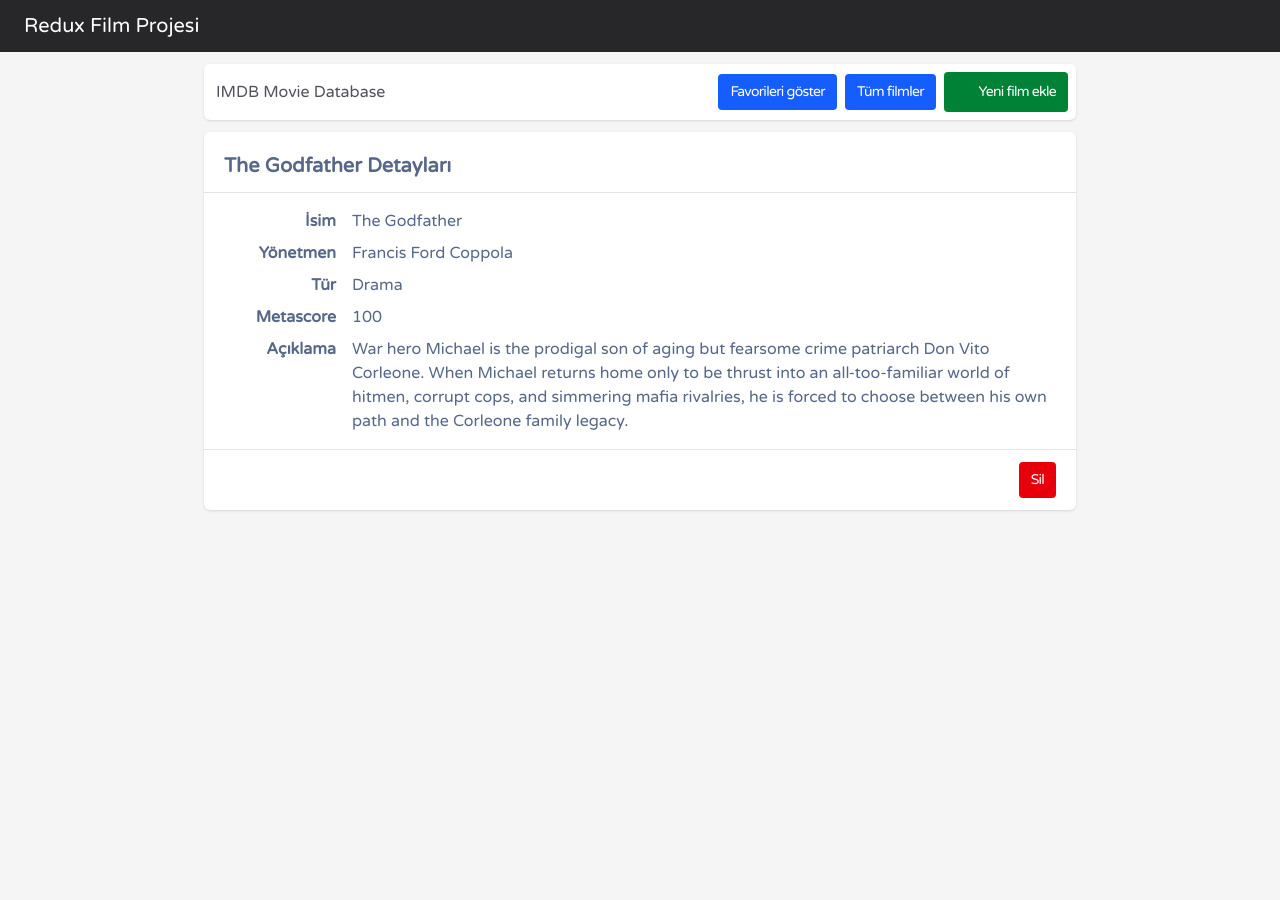
Test case: Film detayları sayfasında Favorilere Ekle butonu filmi favori listesine ekliyor mu?
Click the text "Favorileri göster".
click(778, 92)  # box [730,82,825,102]
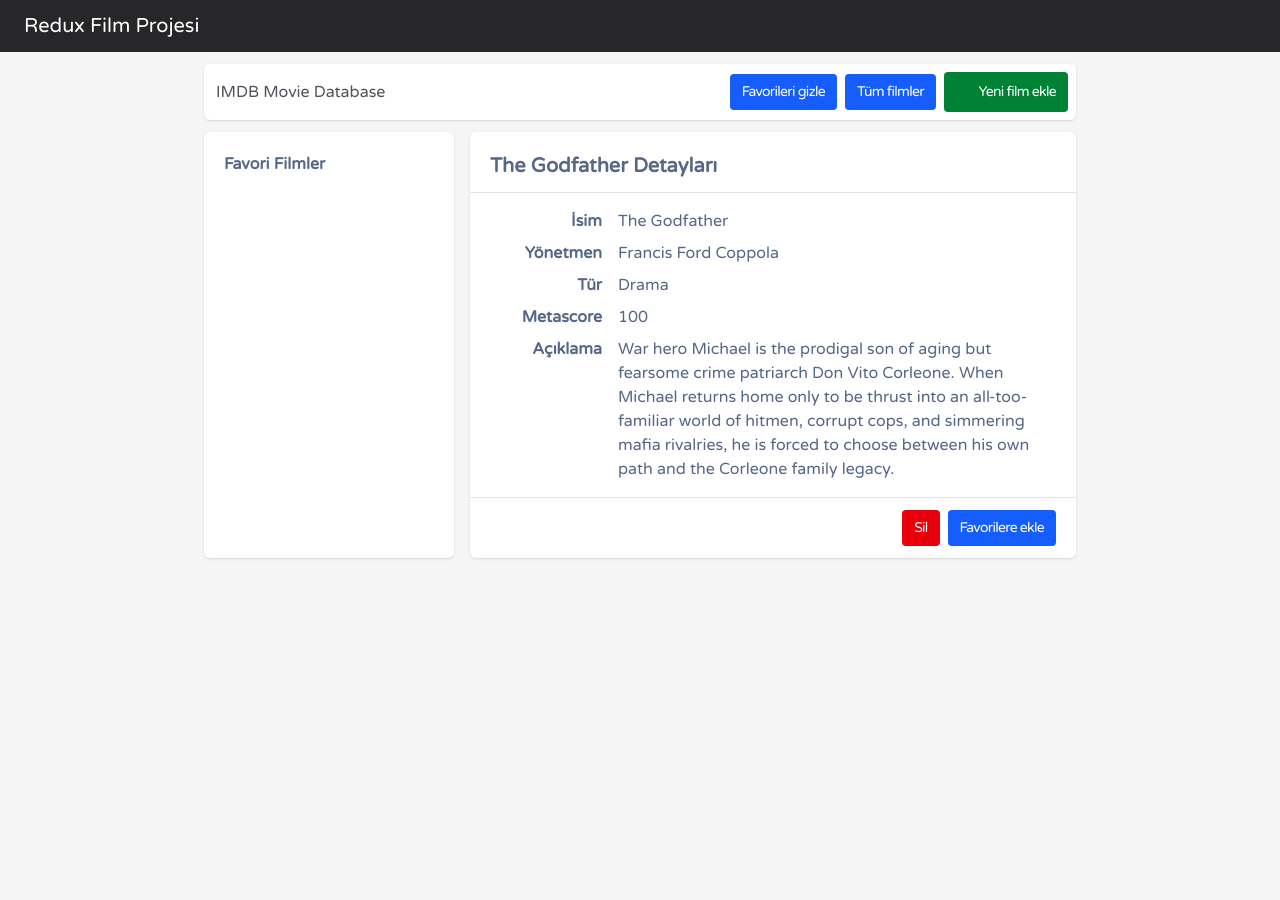
Click the link "Tüm filmler".
click(890, 92)  # box [845,74,936,110]
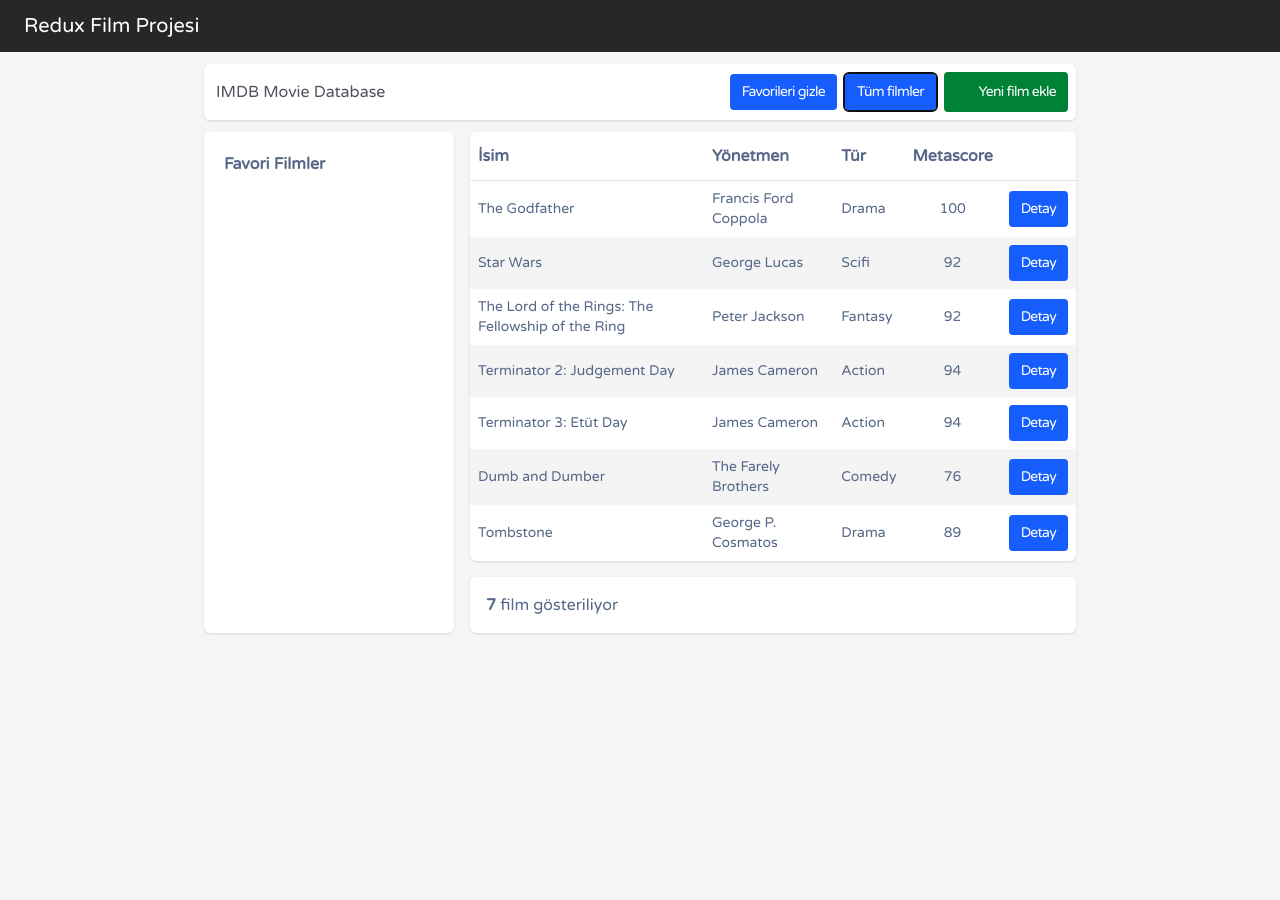
Click the link "Detay" in the row of "The Godfather".
click(1038, 209)  # box [1009,191,1068,227]
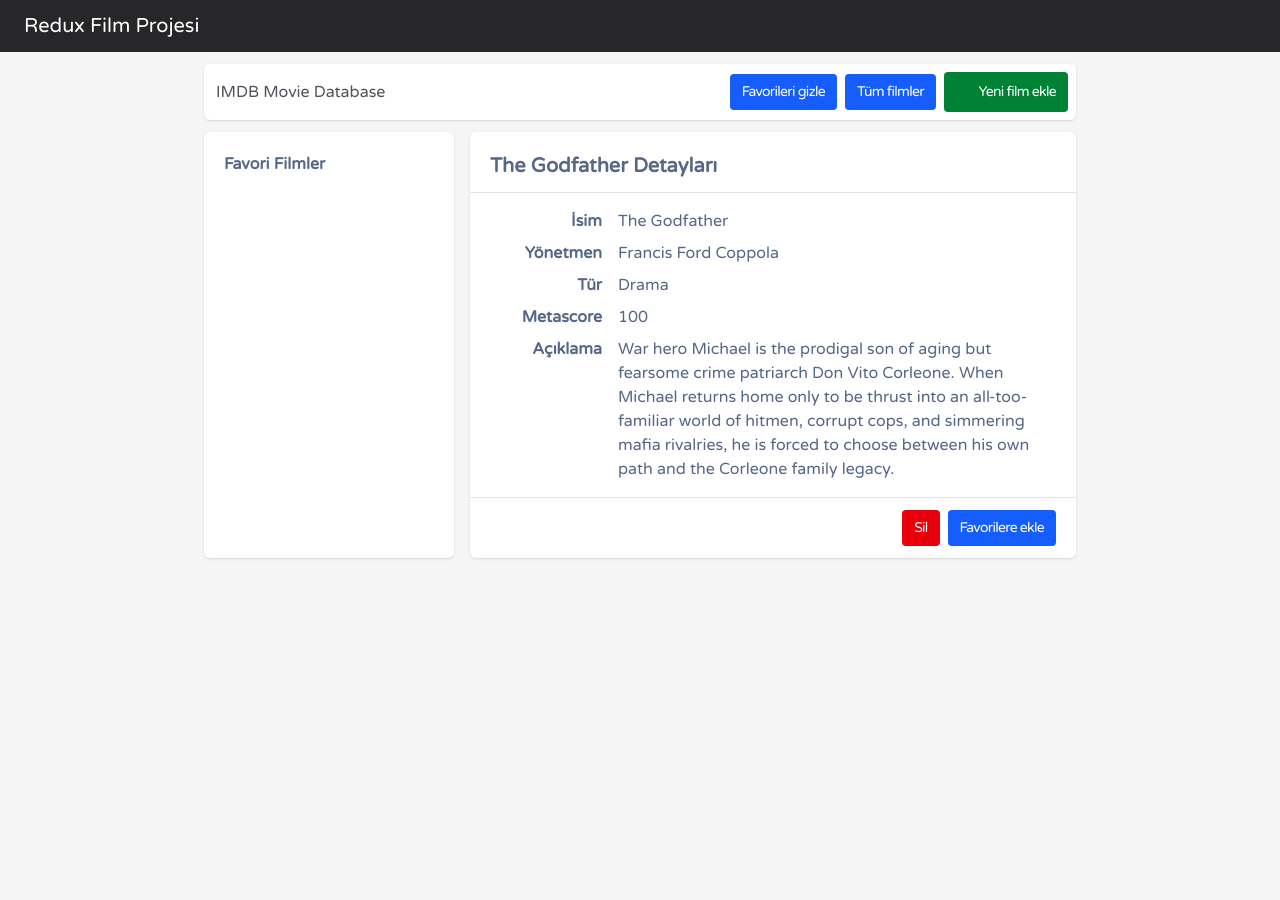
Check: the heading "The Godfather Detayları" is shown, box [490,154,717,178]
Click the button "Favorilere ekle".
click(1002, 528)  # box [948,510,1056,546]
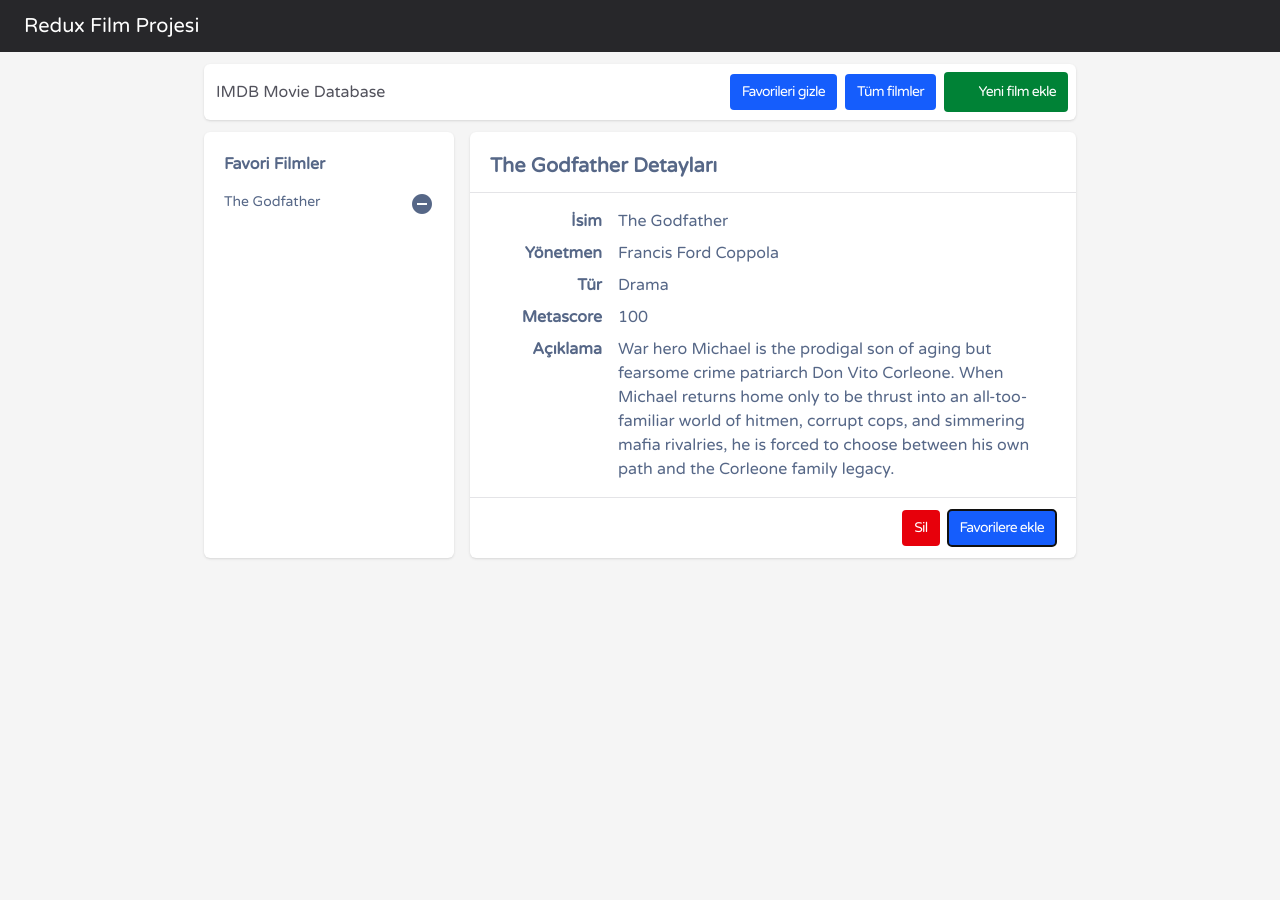
Check: the number of links with test id "favorite-movie" is 1, box [224,188,434,220]
